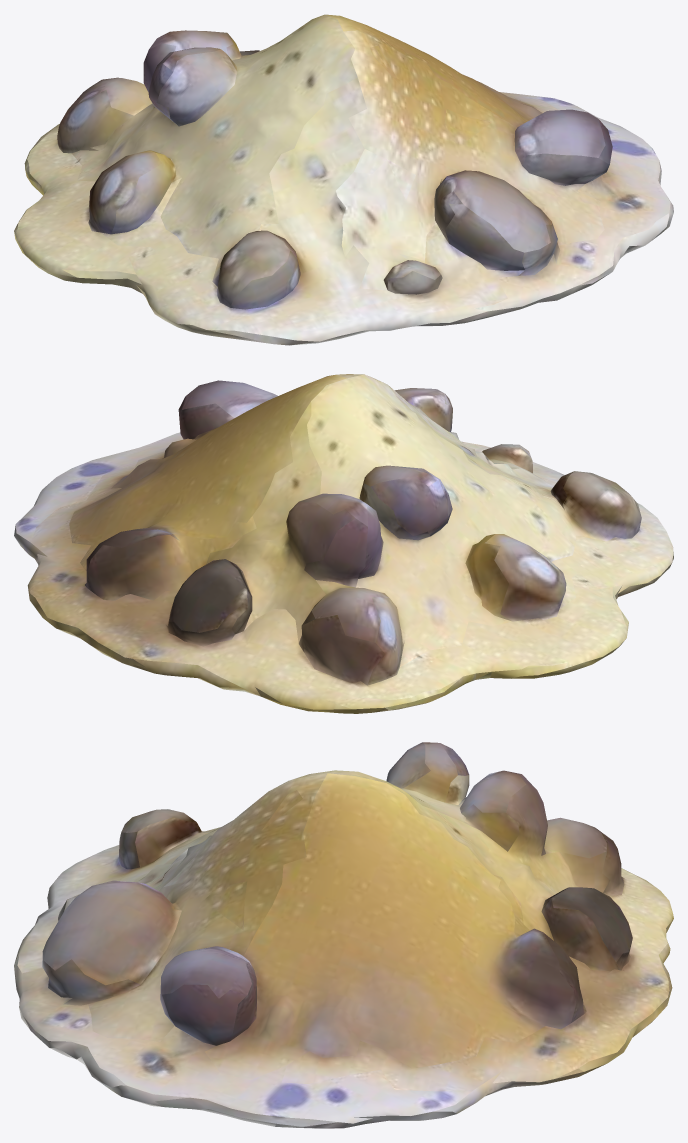
Rendered from silica.glb.
3 views of the same model, one above another, from view 1: azimuth 30°, elevation 25°; view 2: azimuth 150°, elevation 25°; view 3: azimuth 270°, elevation 25° (orthographic). The views are drawn at different scales.
Visible parts, largest first — view 1: silica_n; view 2: silica_n; view 3: silica_n.
Part boxes in pixels (x1,y1,x2,y2): silica_n: [14, 14, 673, 345]; silica_n: [14, 374, 673, 713]; silica_n: [14, 742, 673, 1128].
Size of the model in its own units: 1 by 0.3076 by 0.9029.
Materials: 1 (1 with a texture image).
